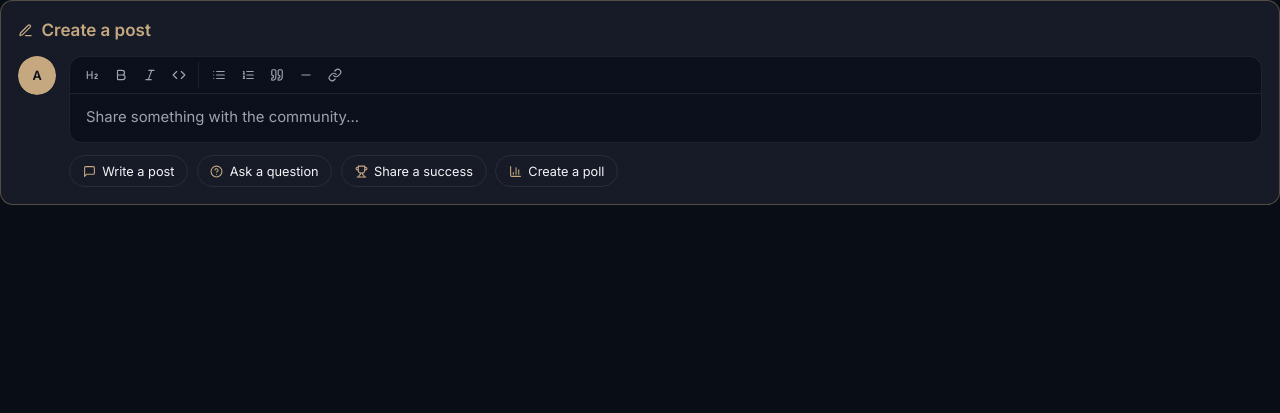
Scenario: CreatePost › shows admins the announcement type
The image size is (1280, 413).
Click the button "Write a post".
click(129, 171)  # box [69,155,188,187]
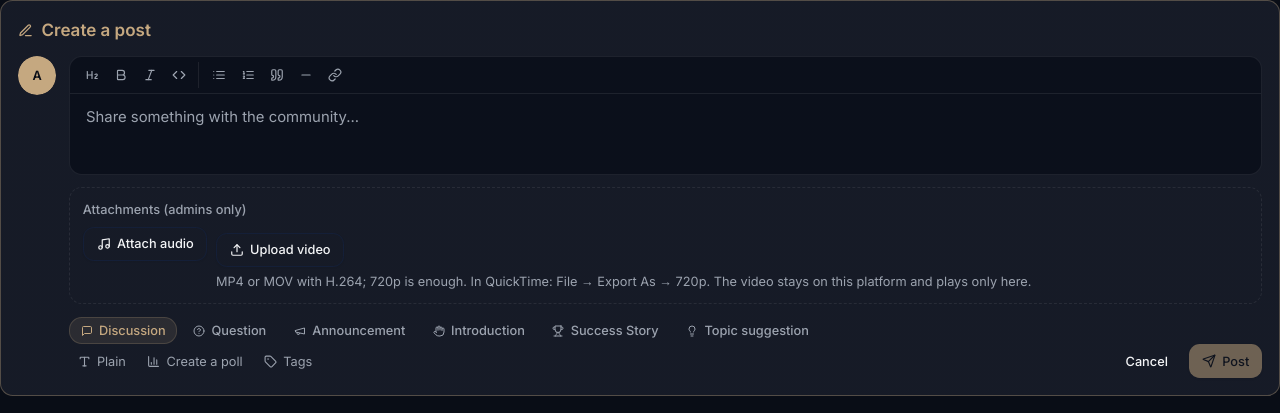
Check: the button "Announcement" is shown, box [282,317,417,344]
